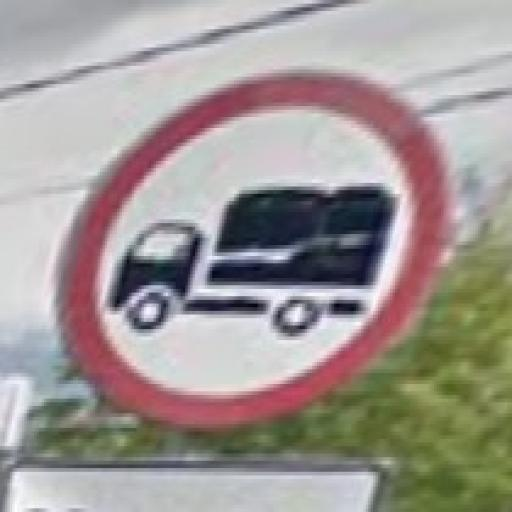traffic_sign: (57, 67, 450, 432)
